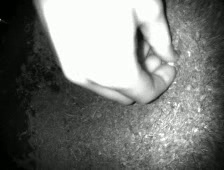corn: (164, 58, 177, 69)
